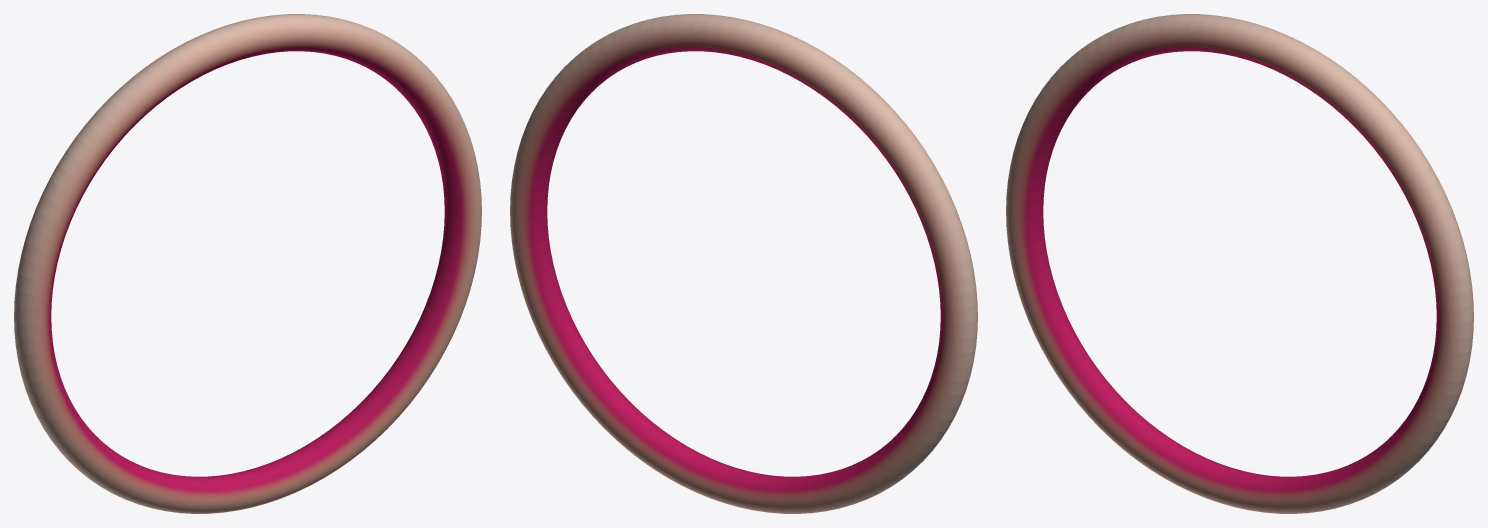
3 views of the same model, side by side, from view 1: azimuth 30°, elevation 25°; view 2: azimuth 150°, elevation 25°; view 3: azimuth 330°, elevation 25° (orthographic).
Visible parts, largest first — view 1: world; view 2: world; view 3: world.
Boxes of the visible parts, <box> form: world: <box>14,14,481,513</box>; world: <box>510,14,977,513</box>; world: <box>1006,14,1473,513</box>.
Size of the model in its own units: 28.67 by 28.67 by 2.
